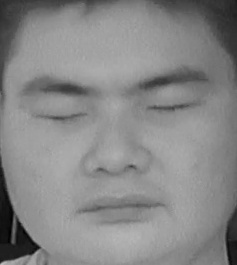blink: (38, 99, 86, 131), (149, 90, 194, 121)
mouth: (75, 184, 162, 228)
